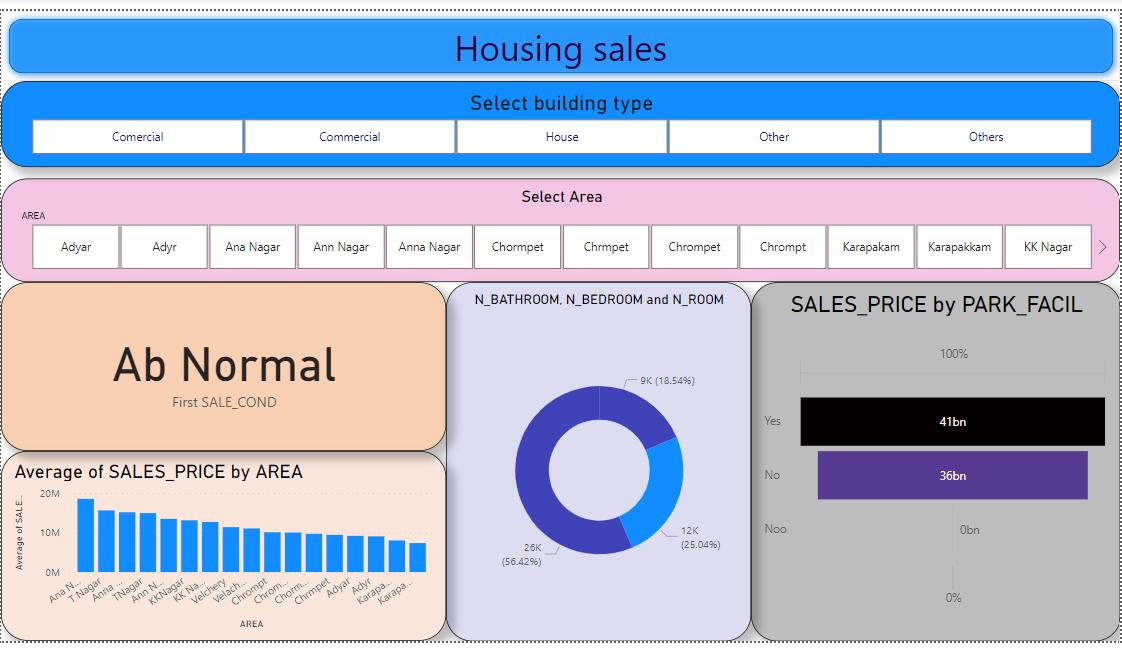

This screenshot's page, from the dashboard's own definition file:
{"tool":"powerbi","page":{"name":"House sales Analysis","canvas":[1280,720],"ordinal":2},"visuals":[{"type":"shape","box":[0,0,1280,80],"z":0},{"type":"columnChart","fields":{"Category":["Chennai houseing sale.AREA","Chennai houseing sale.STREET"],"Y":["Avg(Chennai houseing sale.SALES_PRICE)"]},"box":[0,502.9,508.6,217.1],"z":1},{"type":"slicer","title":"Select building type","fields":{"Values":["Chennai houseing sale.BUILDTYPE"]},"box":[0,80,1280,98.6],"z":2},{"type":"slicer","title":"Select Area","fields":{"Values":["Chennai houseing sale.AREA"]},"box":[0,191.4,1280,118.6],"z":3},{"type":"funnel","fields":{"Category":["Chennai houseing sale.PARK_FACIL"],"Y":["Sum(Chennai houseing sale.SALES_PRICE)"]},"box":[857.1,310,422.9,410],"z":4},{"type":"donutChart","fields":{"Y":["Sum(Chennai houseing sale.N_BATHROOM)","Sum(Chennai houseing sale.N_BEDROOM)","Sum(Chennai houseing sale.N_ROOM)"]},"box":[508.6,310,348.6,410],"z":5},{"type":"card","fields":{"Values":["Min(Chennai houseing sale.SALE_COND)"]},"box":[0,310,508.6,192.9],"z":6}]}

Visuals, with their boxes in screenshot pixels (x1, y1, x2, y2), scaled from the page's 1280x720 canvas onto the 1122x648 screenshot:
shape: bbox(0, 0, 1121, 72)
columnChart - Chennai houseing sale.AREA x Chennai houseing sale.STREET: bbox(0, 453, 446, 647)
"Select building type" slicer: bbox(0, 72, 1121, 161)
"Select Area" slicer: bbox(0, 172, 1121, 279)
funnel - Chennai houseing sale.PARK_FACIL x Sum(Chennai houseing sale.SALES_PRICE): bbox(751, 279, 1121, 647)
donutChart - Sum(Chennai houseing sale.N_BATHROOM) x Sum(Chennai houseing sale.N_BEDROOM): bbox(446, 279, 751, 647)
card - Min(Chennai houseing sale.SALE_COND): bbox(0, 279, 446, 453)
